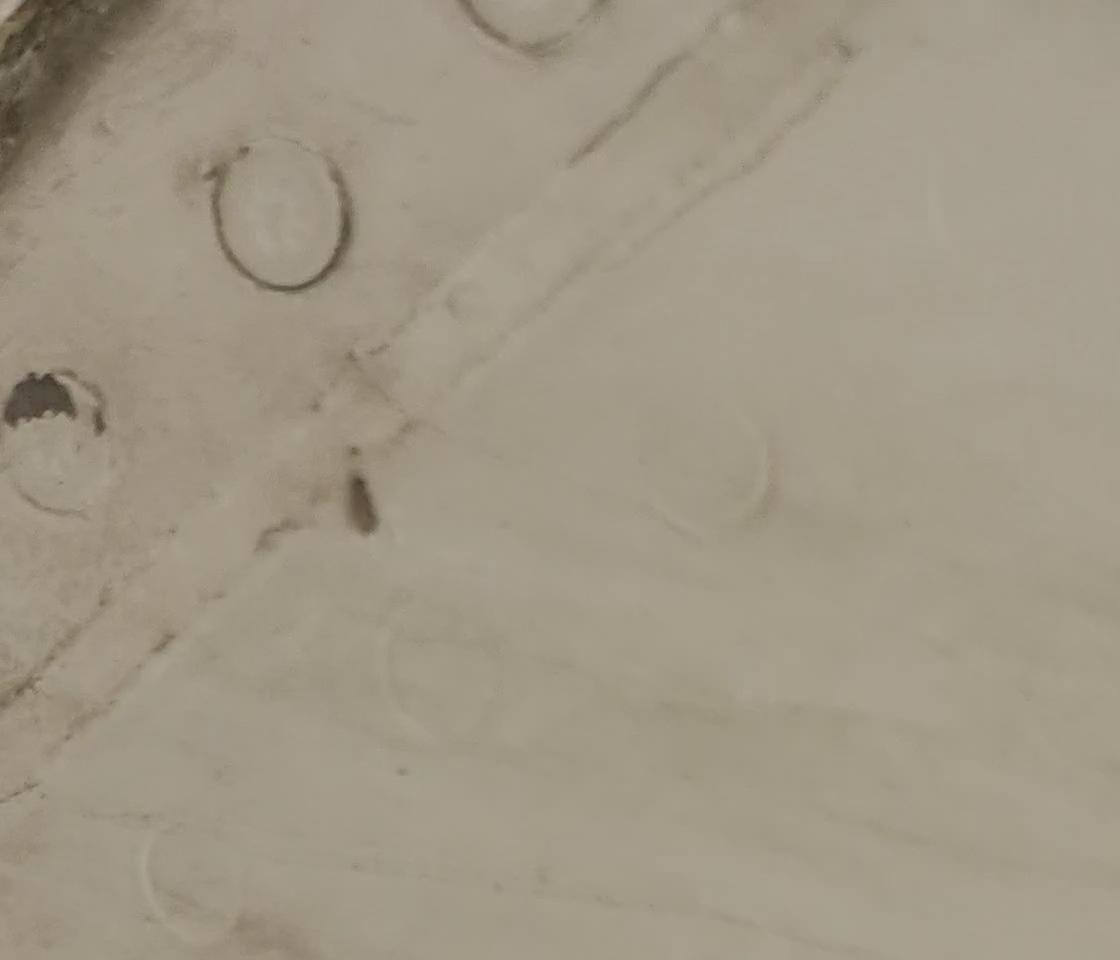paint_peel: (1, 361, 87, 438)
